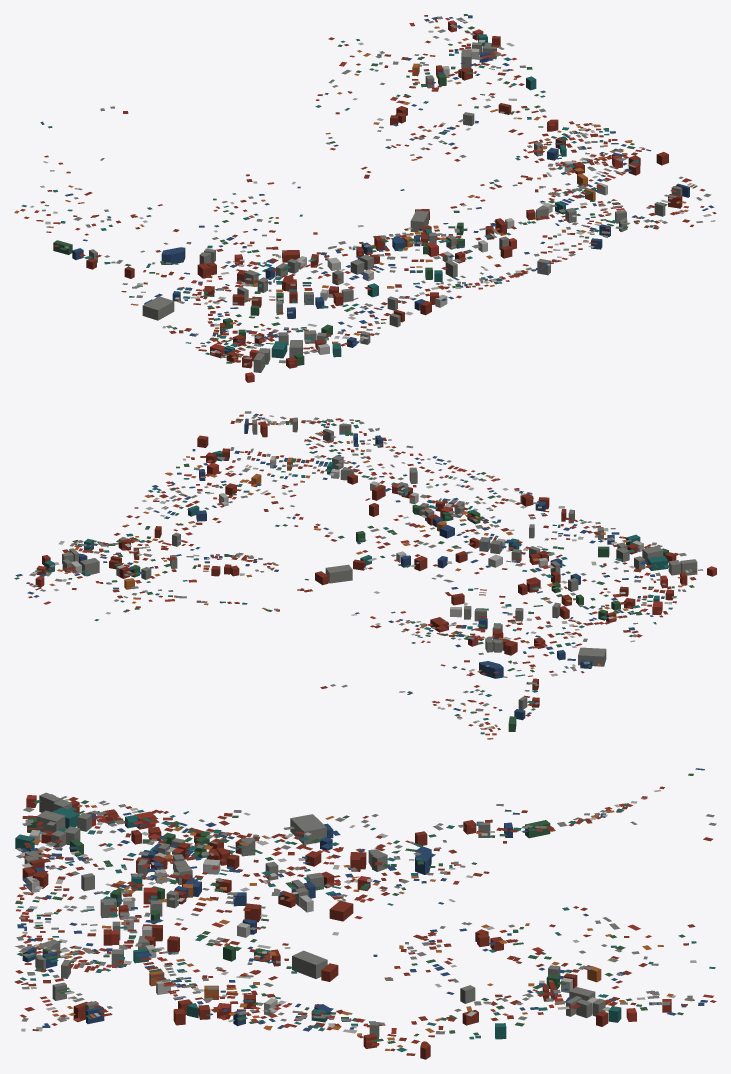
File: far-15-27361-14867.76c33385.glb
The picture shows the model from 3 angles, top to bottom: view 1: azimuth 30°, elevation 25°; view 2: azimuth 150°, elevation 25°; view 3: azimuth 270°, elevation 25°; orthographic projection. The views are drawn at different scales.
Size of the model in its own units: 1191 by 211 by 1176.
